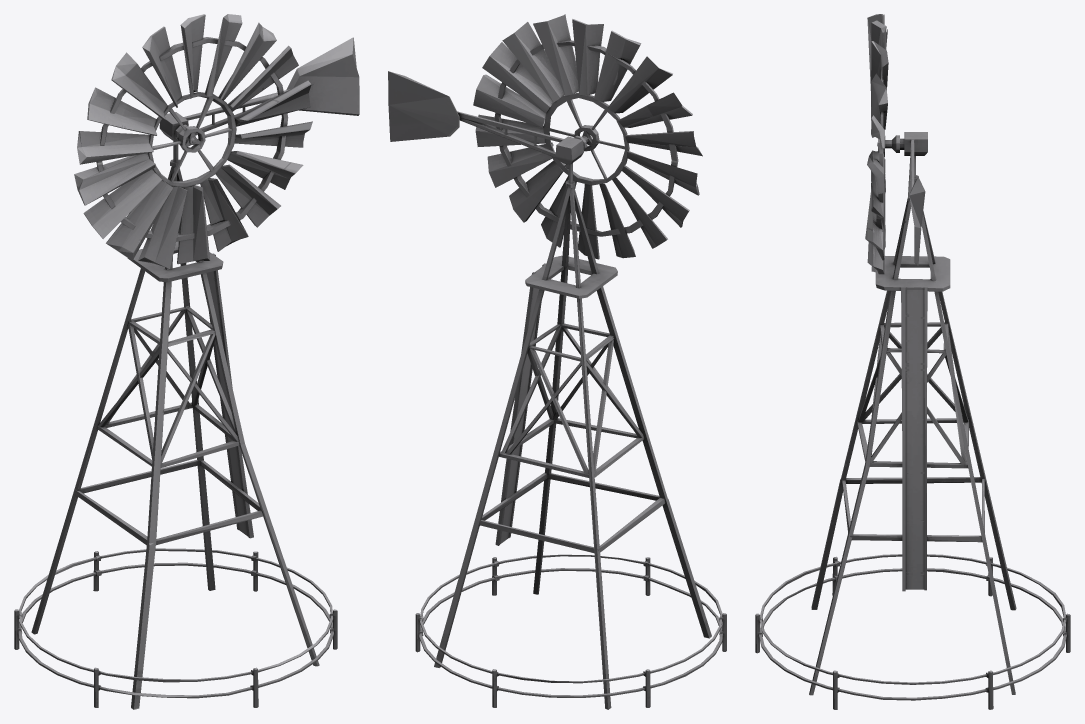
The model's file is Farm_Windmill.fbx.
3 views of the same model, side by side, from view 1: azimuth 30°, elevation 25°; view 2: azimuth 150°, elevation 25°; view 3: azimuth 270°, elevation 25° (orthographic). The views are drawn at different scales.
Visible parts, largest first — view 1: SM_Town_Farm_Windmill.mo; view 2: SM_Town_Farm_Windmill.mo; view 3: SM_Town_Farm_Windmill.mo.
Boxes of the visible parts, bbox=[...] form: SM_Town_Farm_Windmill.mo: bbox=[14, 14, 359, 709]; SM_Town_Farm_Windmill.mo: bbox=[388, 14, 726, 709]; SM_Town_Farm_Windmill.mo: bbox=[755, 14, 1070, 709].
Size of the model in its own units: 625 by 1189 by 542.
Materials: 3 (3 with a texture image).
